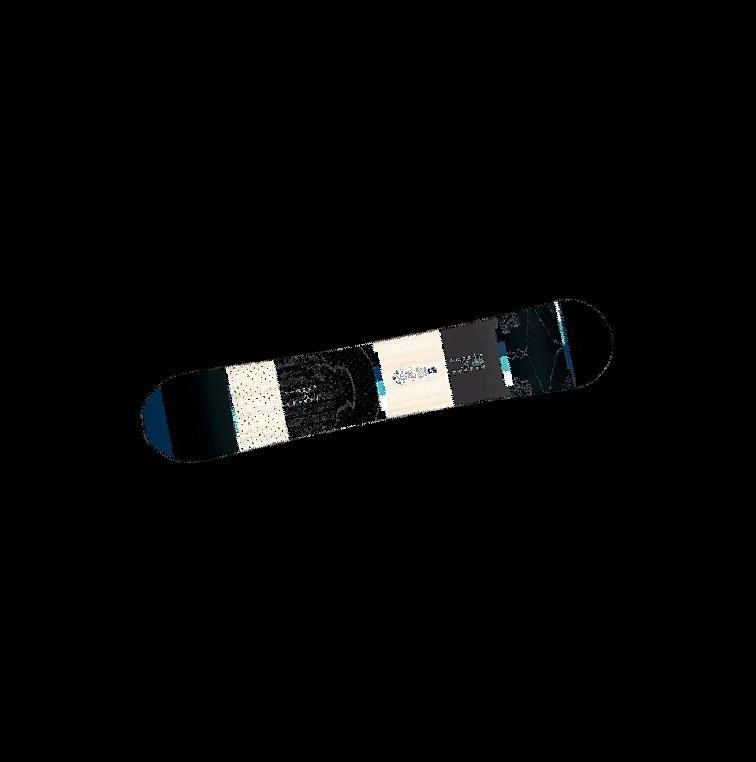Snowboard: (139, 296, 615, 465)
